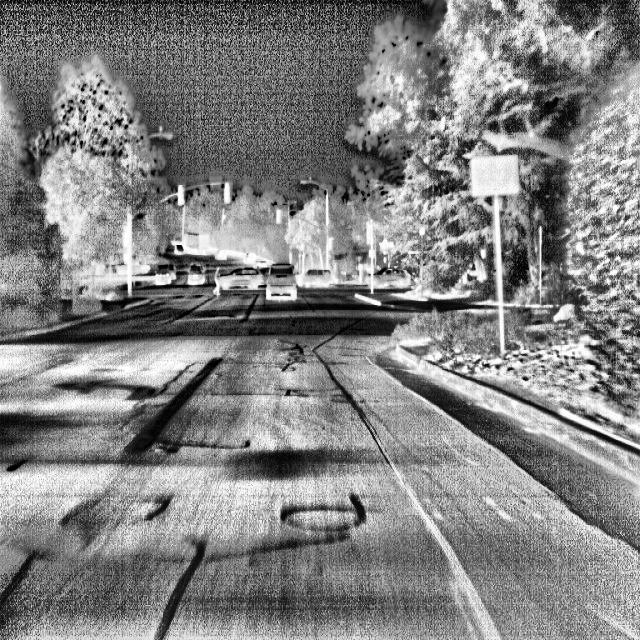car: (258, 254, 299, 308), (221, 260, 271, 295), (298, 258, 341, 296), (179, 251, 214, 296), (149, 258, 169, 288)
light: (285, 164, 344, 213), (150, 120, 183, 160)
person and bycle: (208, 256, 227, 301)
trafficlight: (198, 169, 242, 215), (163, 174, 200, 219)
